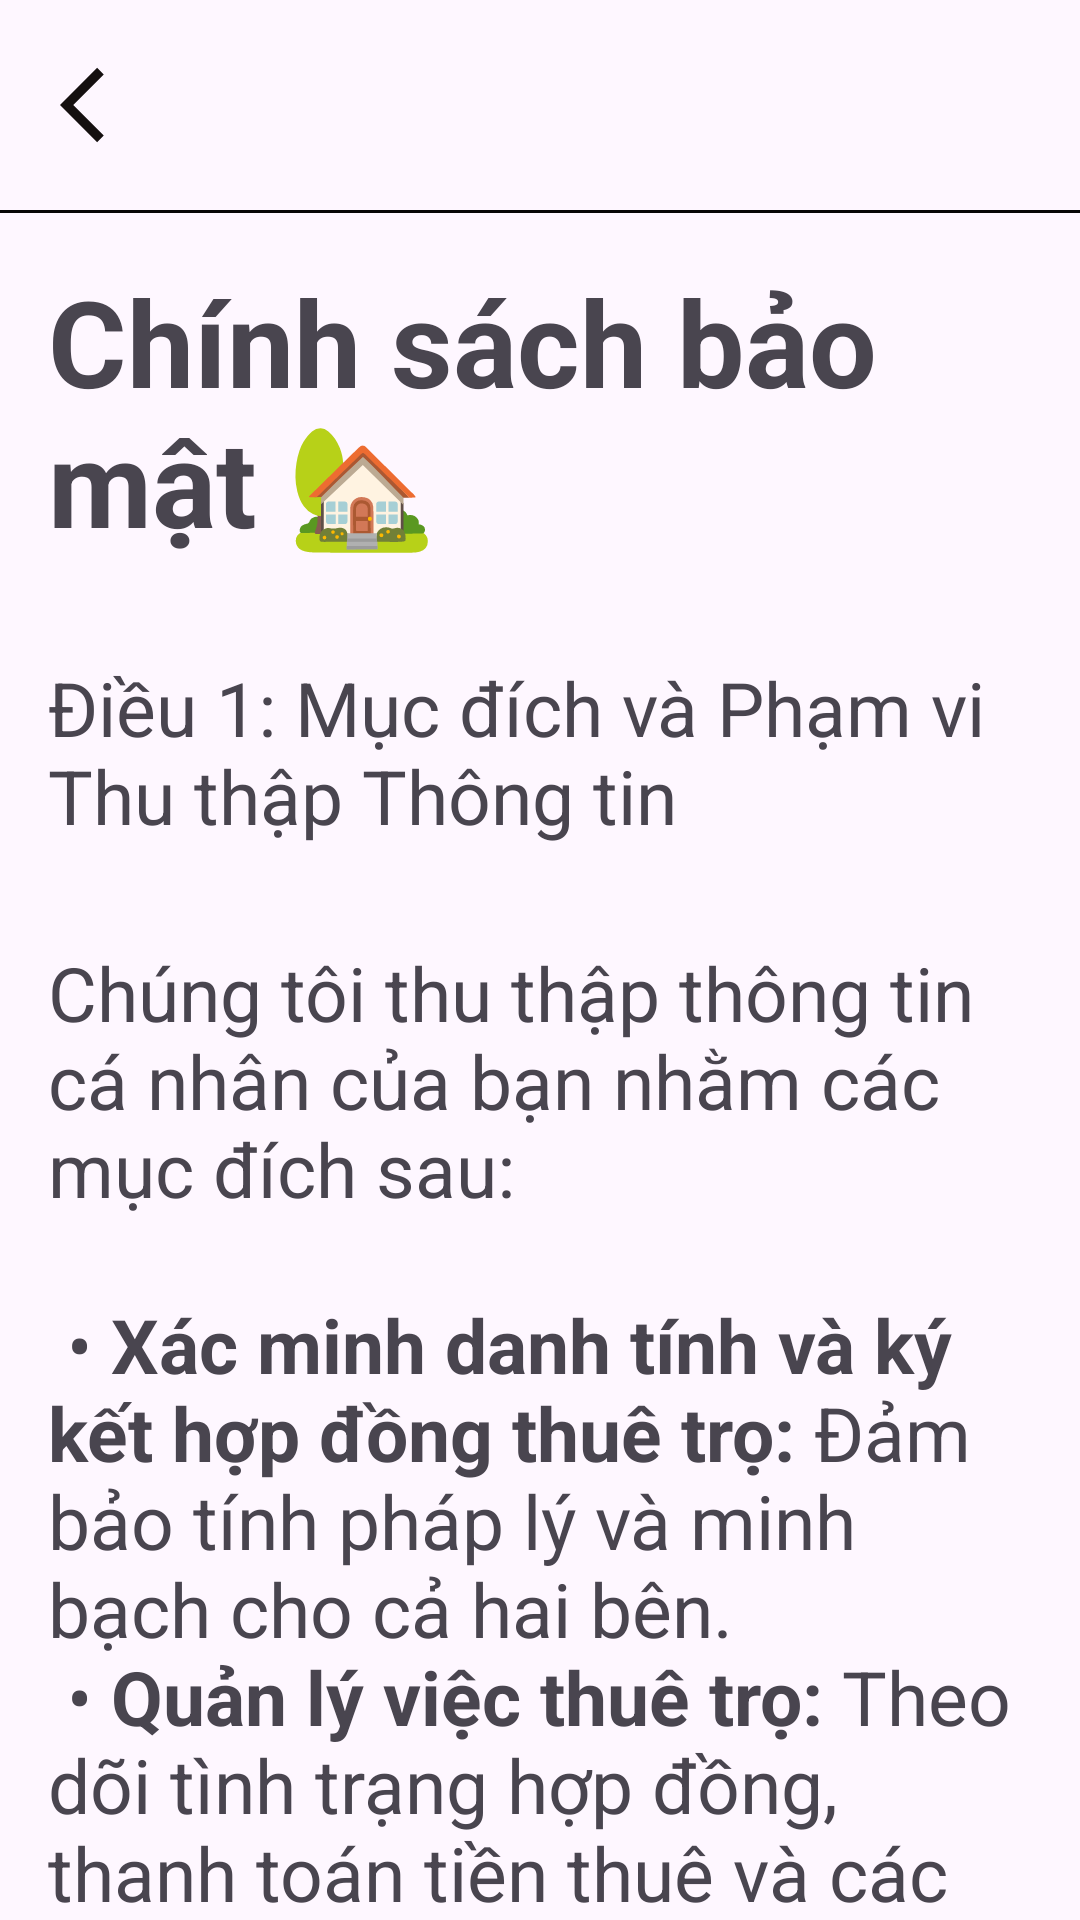

Where icons sit on this 1080×1920 app screen, as BBox(x1, y1, x2, y2):
back: BBox(60, 68, 104, 142)
